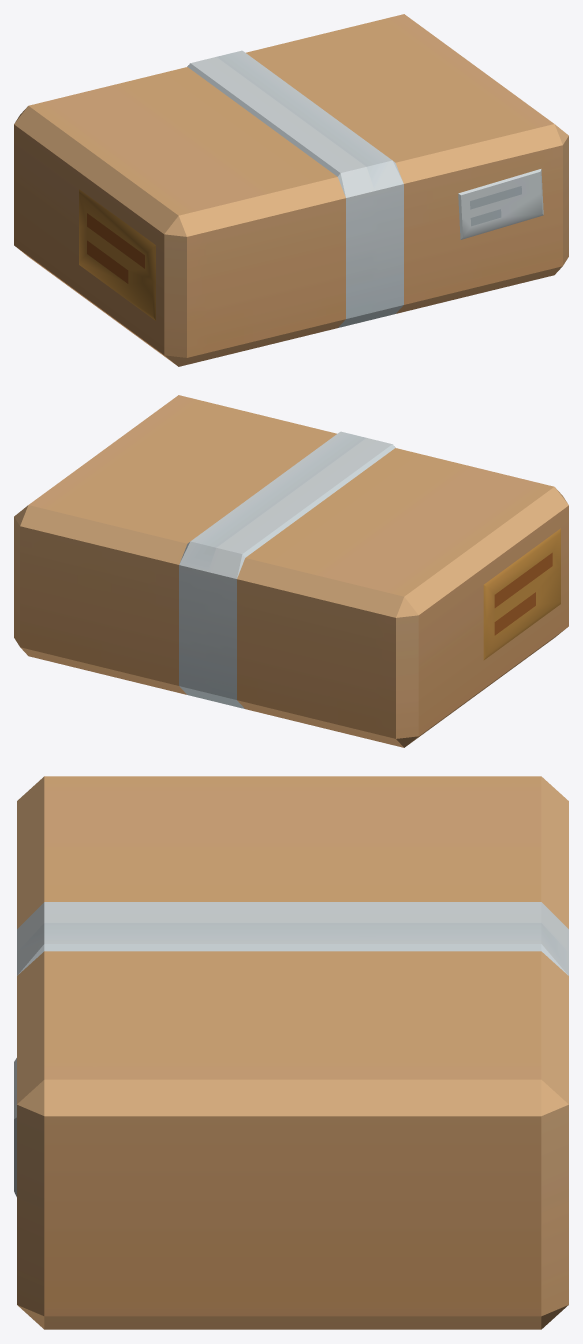
File: containers_box_medium.glb
3 views of the same model, one above another, from view 1: azimuth 30°, elevation 25°; view 2: azimuth 150°, elevation 25°; view 3: azimuth 270°, elevation 25° (orthographic). The views are drawn at different scales.
Parts seen in each view (by area): view 1: Containers_Box_Medium; view 2: Containers_Box_Medium; view 3: Containers_Box_Medium.
Boxes of the visible parts, x1,y1,x2,y2 form: Containers_Box_Medium: (14,14,568,366); Containers_Box_Medium: (14,395,568,747); Containers_Box_Medium: (14,776,568,1329).
Size of the model in its own units: 1.05 by 0.3825 by 0.7538.
1 material, 1 textured.
